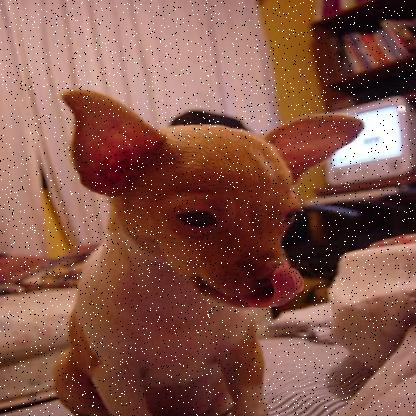dog: (49, 76, 368, 414)
